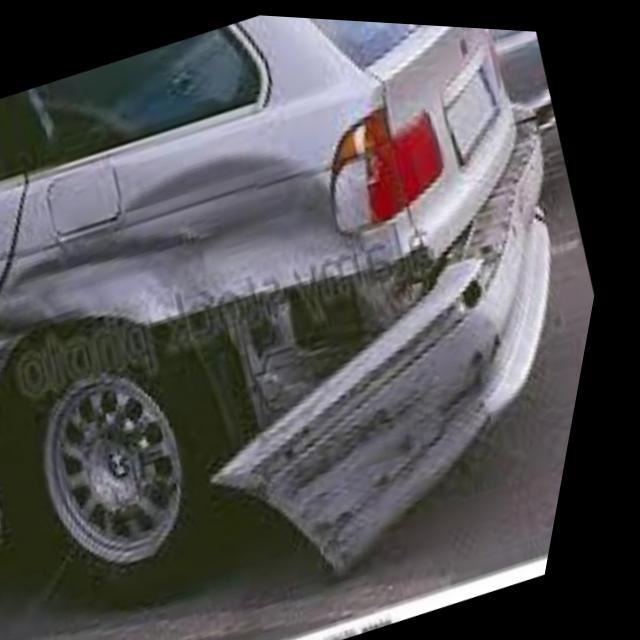dislocated part: (0, 113, 545, 572)
